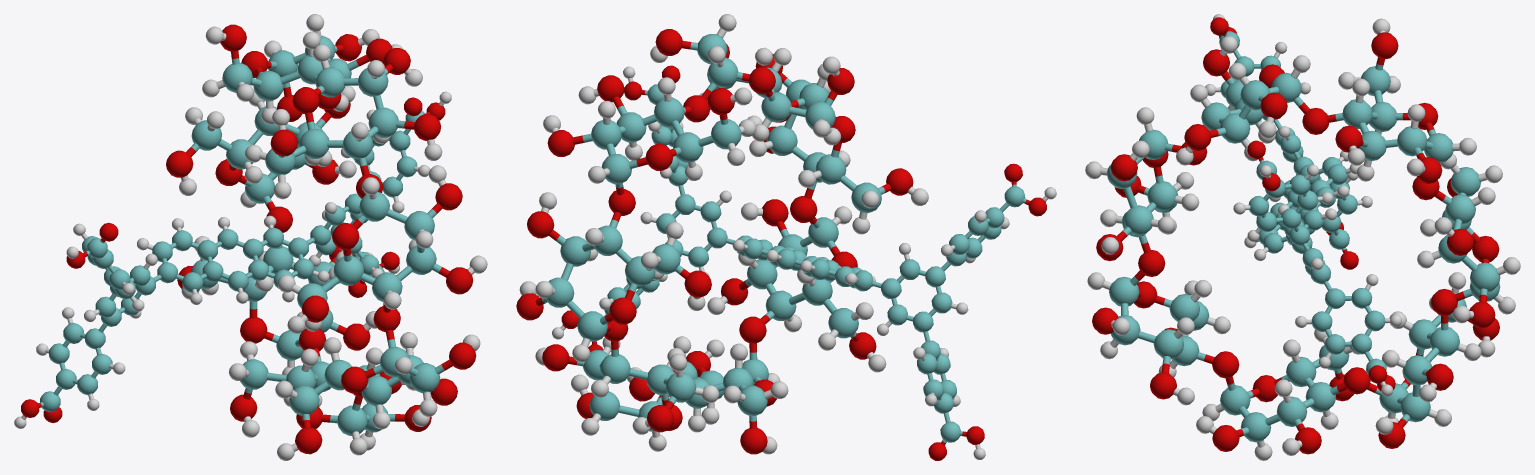
The model's file is rotaxane.glb.
The picture shows the model from 3 angles, left to right: view 1: azimuth 30°, elevation 25°; view 2: azimuth 150°, elevation 25°; view 3: azimuth 270°, elevation 25°; orthographic projection.
Visible parts, largest first — view 1: ciclodext, anthraceno; view 2: ciclodext, anthraceno; view 3: ciclodext, anthraceno.
Part boxes in pixels (left/top/right/bottom): ciclodext: left=166, top=14, right=487, bottom=460; anthraceno: left=14, top=91, right=451, bottom=428; ciclodext: left=516, top=14, right=928, bottom=454; anthraceno: left=552, top=65, right=1056, bottom=460; ciclodext: left=1085, top=18, right=1520, bottom=460; anthraceno: left=1205, top=14, right=1401, bottom=396.
Bounding box in the file's own units: 5.1 × 4.69 × 4.67.
